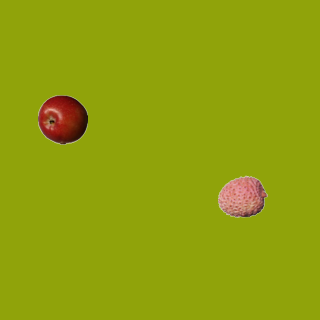Apple Braeburn: (37, 94, 87, 144)
Lychee: (217, 171, 267, 221)
